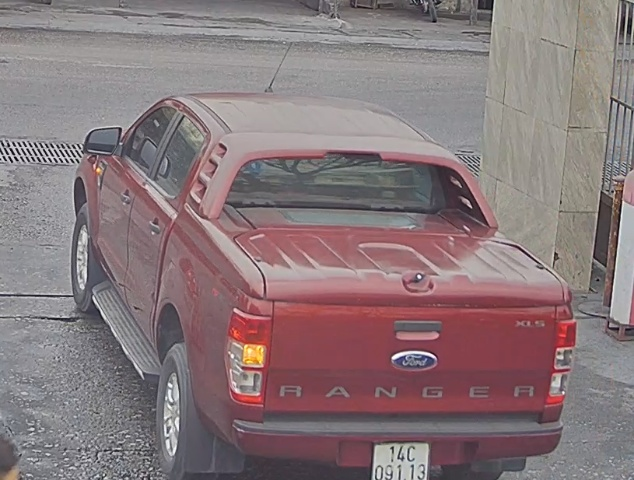vehicle plate: (369, 435, 437, 480)
